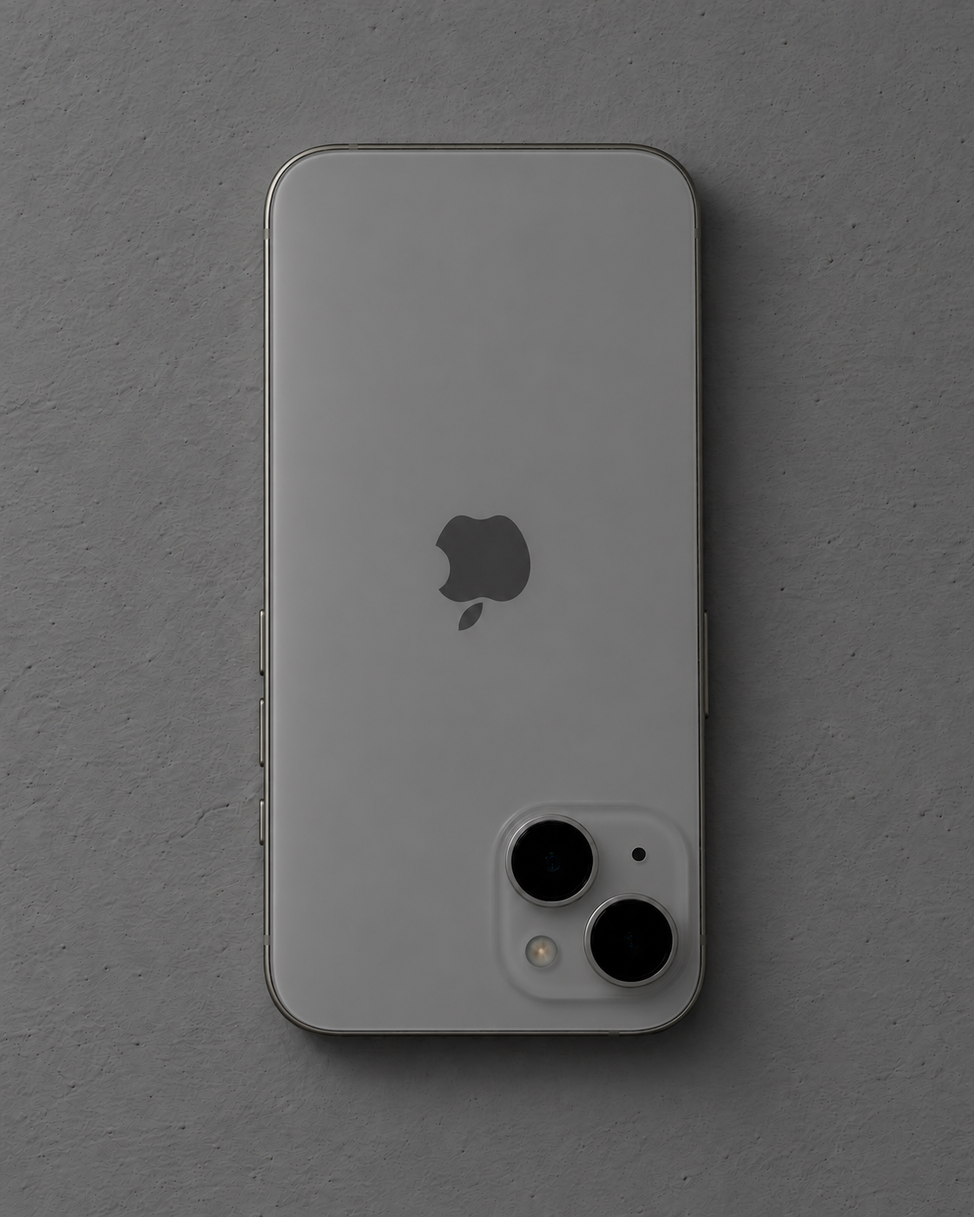iphone_14_white: (209, 106, 745, 1073), (474, 780, 697, 1021)
